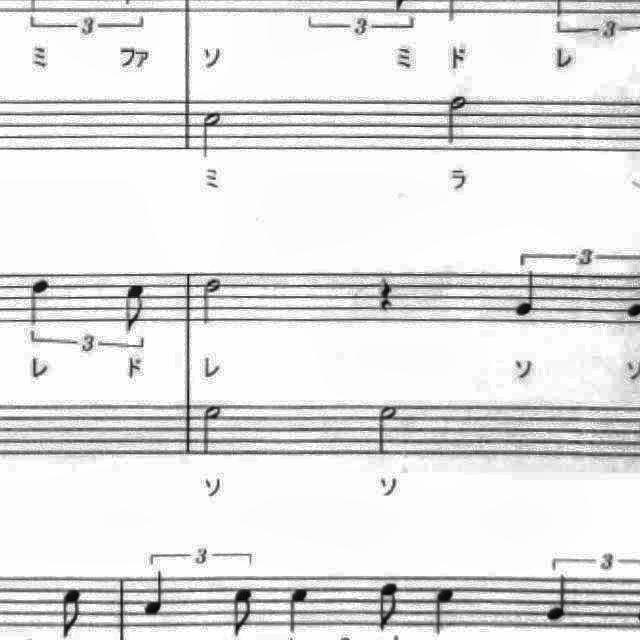Eighth-note: (220, 583, 259, 640), (118, 278, 154, 338), (372, 576, 408, 636), (53, 584, 91, 640)
Half-note: (368, 398, 406, 462), (196, 396, 232, 459), (194, 104, 230, 164), (440, 88, 476, 148), (196, 273, 228, 331)
Quarter-note: (539, 568, 581, 628), (137, 564, 175, 622), (509, 265, 547, 323), (22, 273, 58, 331), (426, 581, 462, 639), (281, 580, 315, 638)
Quarter-rest: (369, 270, 399, 318)
